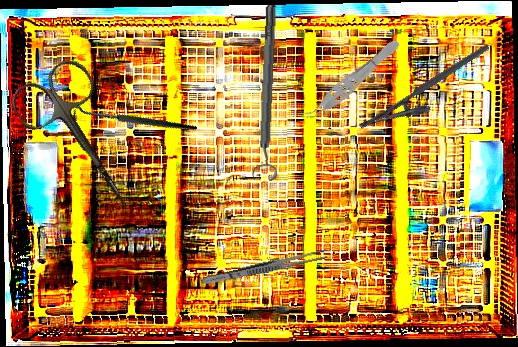Dressing Forceps: (199, 247, 329, 288)
Fixation Ring: (249, 4, 287, 182)
Hook Surgical: (68, 63, 198, 183)
Iris Scissors: (5, 52, 160, 231)
Needle Holder: (358, 43, 501, 147)
Tissue Forceps: (297, 34, 405, 128)
